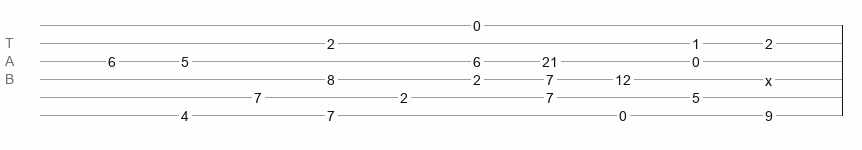0: (473, 18, 481, 28), (619, 108, 627, 118), (692, 54, 700, 64)
1: (692, 36, 700, 46)
12: (615, 72, 631, 82)
2: (327, 36, 335, 46), (400, 90, 408, 100), (473, 72, 481, 82), (765, 36, 773, 46)
21: (542, 54, 558, 64)
4: (181, 108, 189, 118)
5: (181, 54, 189, 64), (692, 90, 700, 100)
6: (108, 54, 116, 64), (473, 54, 481, 64)
7: (254, 90, 262, 100), (327, 108, 335, 118), (546, 90, 554, 100), (546, 72, 554, 82)
8: (327, 72, 335, 82)
9: (765, 108, 773, 118)
x: (765, 73, 772, 81)
